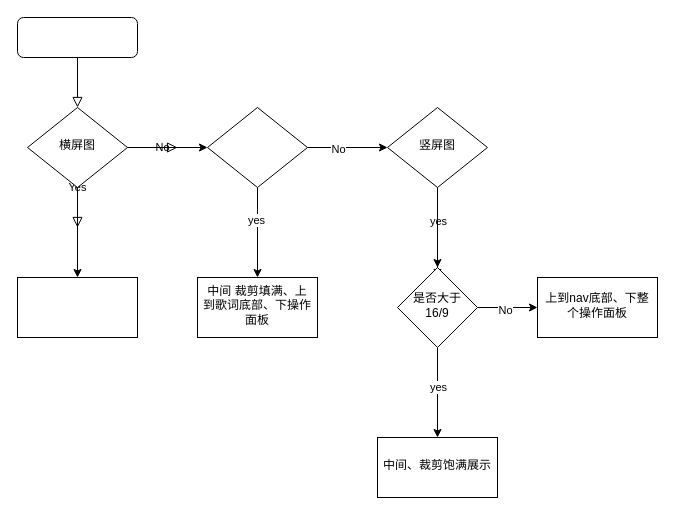
Image size: 675x515. Some labels were removed from this diagram. Each missing label, with the centre of its shape:
上模糊至图片顶部、下从图片底部开始: point (77, 307)
正方形图: point (257, 147)
输入图片: point (77, 37)
